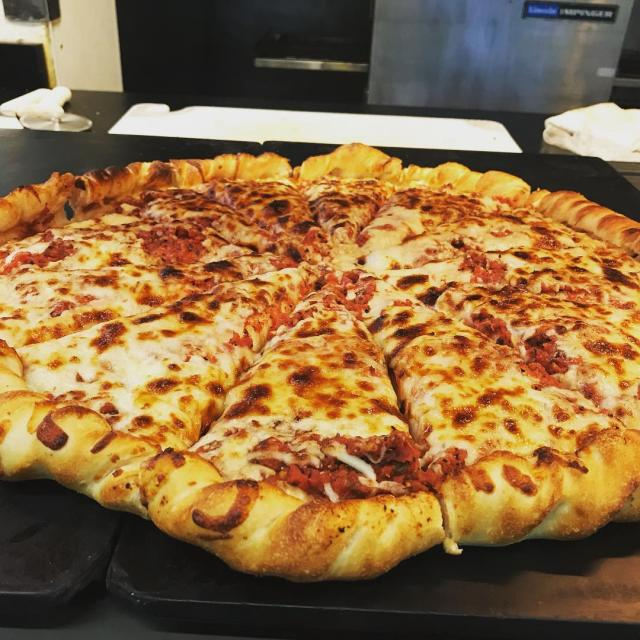pizza: (0, 144, 640, 581)
